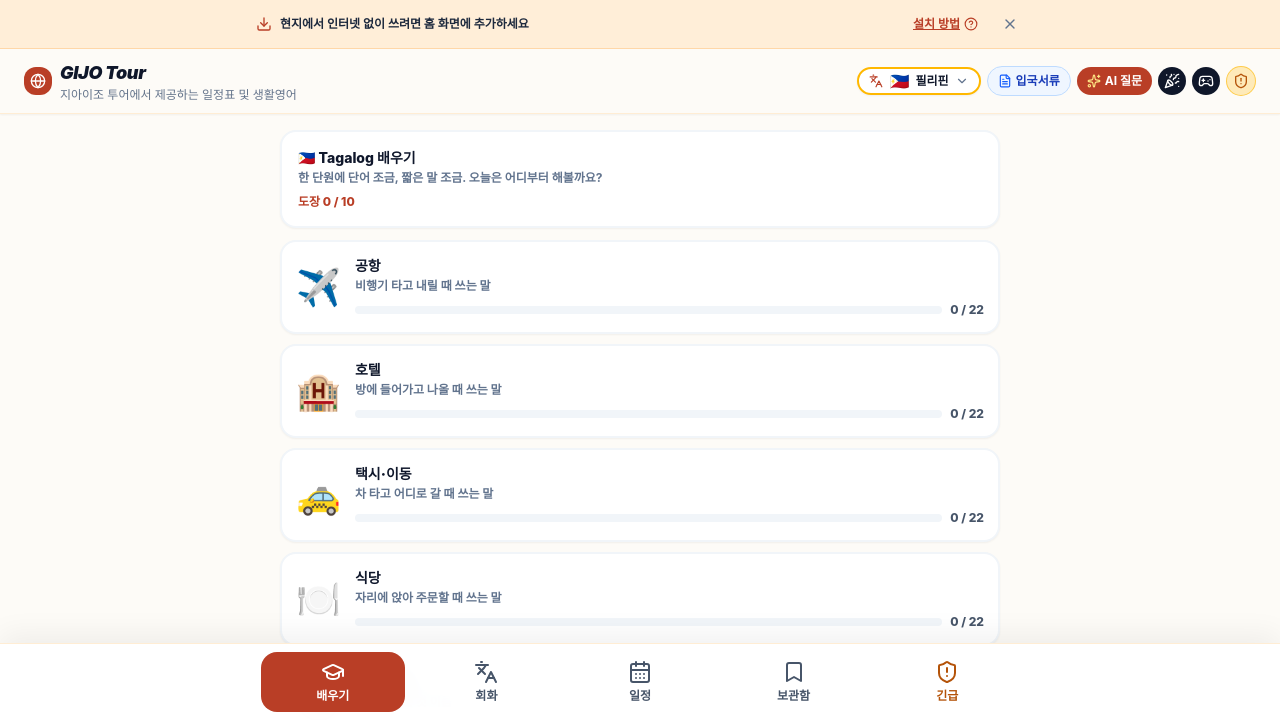
Test: 복습 퀴즈 › 퀴즈를 닫으면 단어장으로 돌아온다
Click the button "보관함" at coordinates (794, 682), box left=722, top=652, right=866, bottom=712
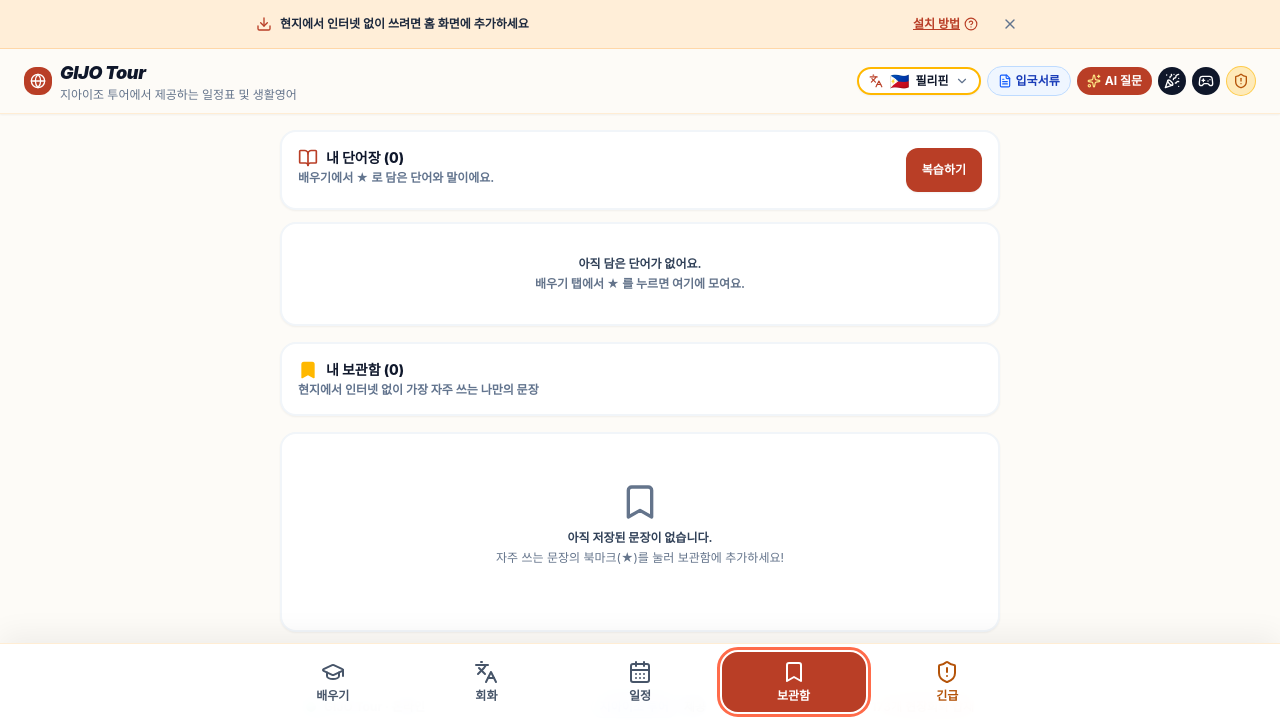
Click the button "복습하기" at coordinates (944, 170), box left=906, top=148, right=982, bottom=192
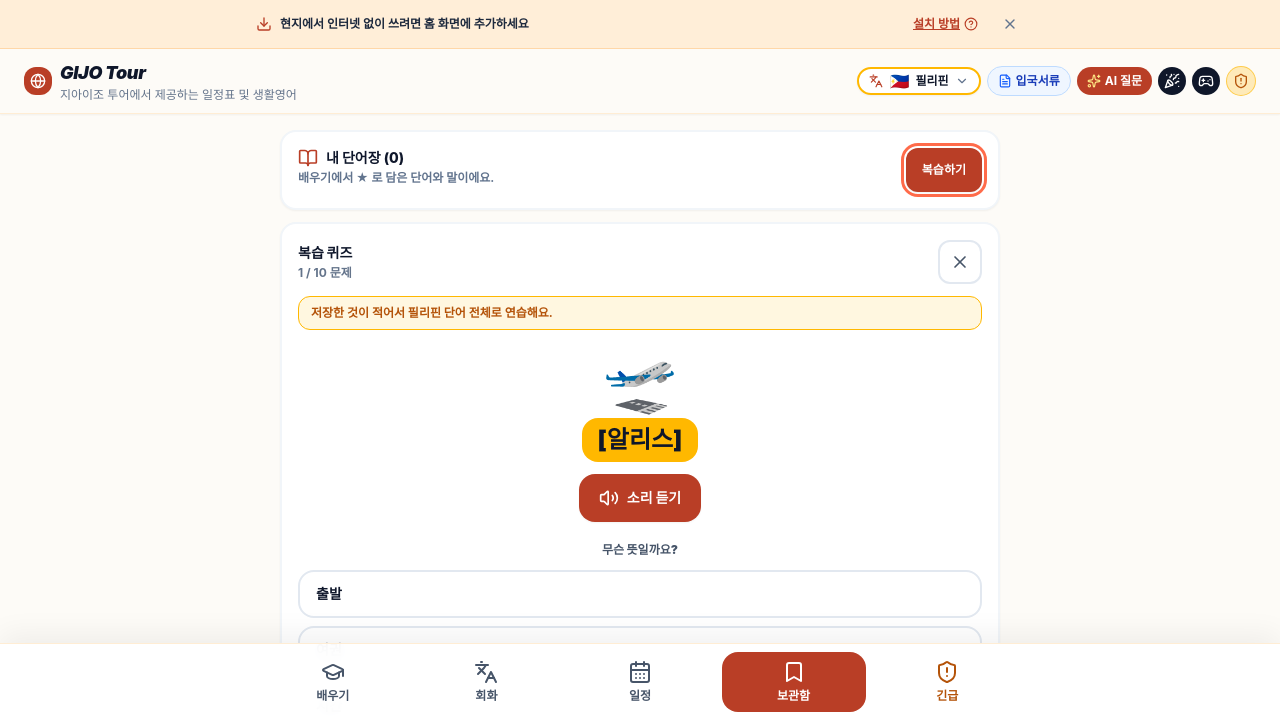
Click the button named "퀴즈 닫기" at coordinates (960, 262), box left=938, top=240, right=982, bottom=284
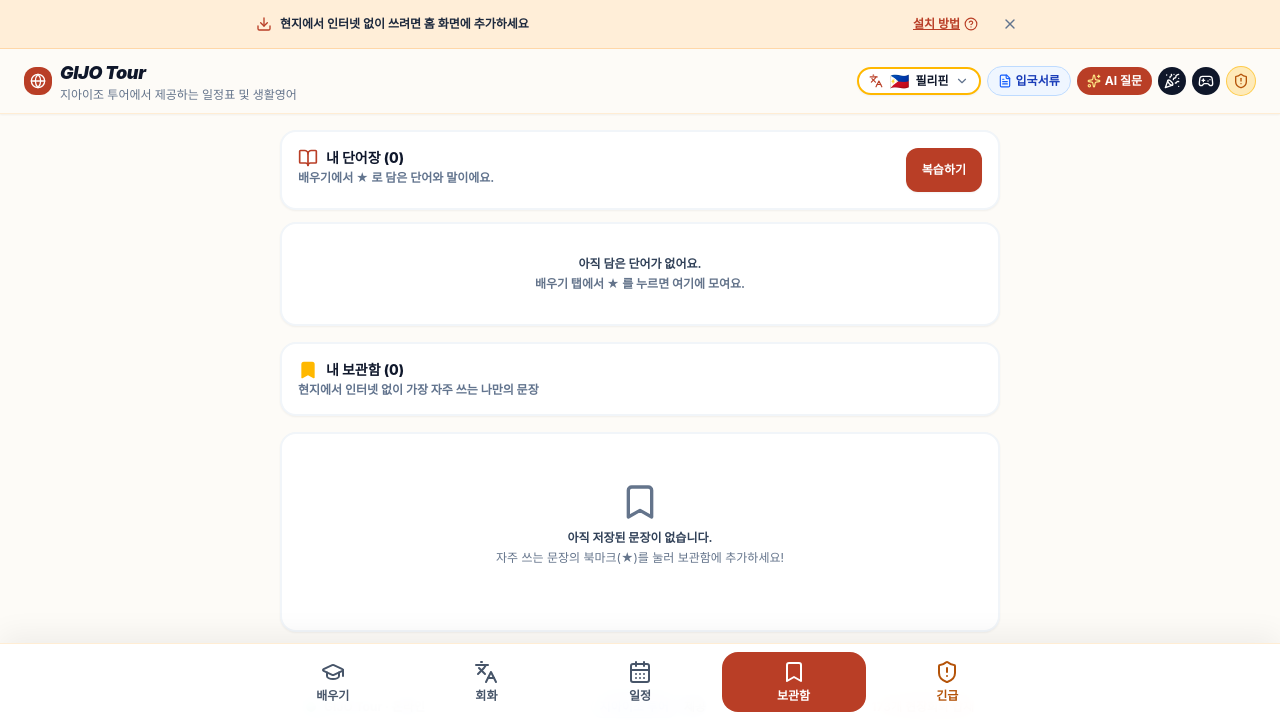
Check: the element "내 단어장" is shown, box left=280, top=130, right=1000, bottom=326
Check: the heading "복습 퀴즈" is gone
